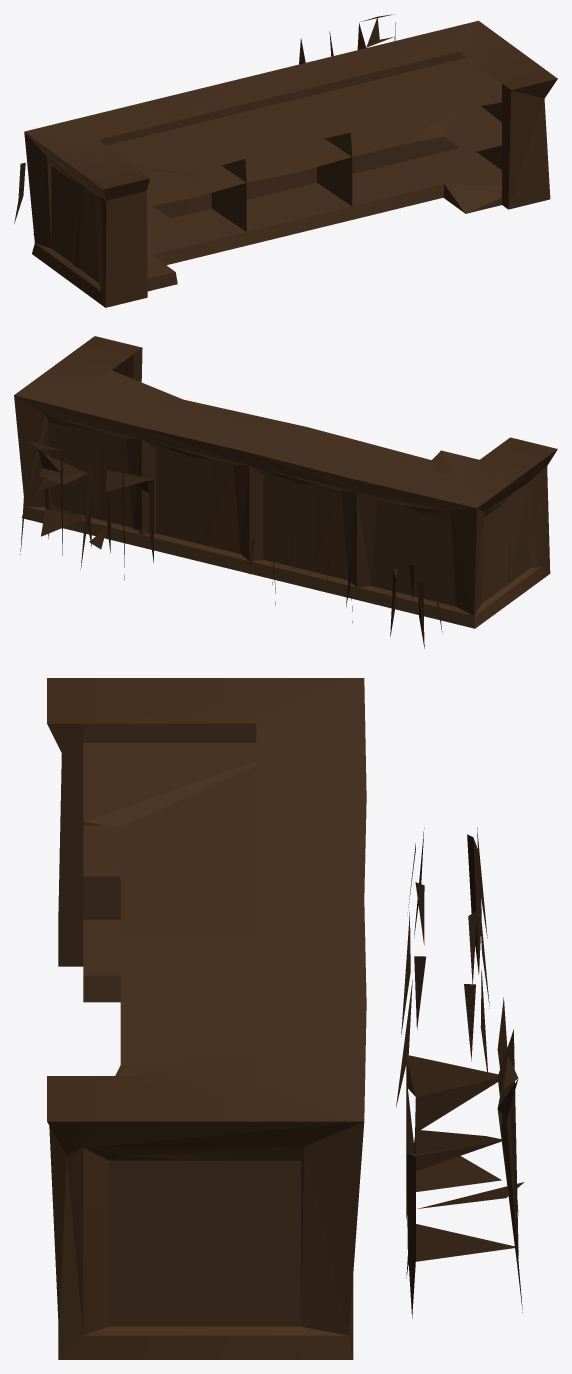
Rendered from pub-counter.lod1.glb.
The picture shows the model from 3 angles, top to bottom: view 1: azimuth 30°, elevation 25°; view 2: azimuth 150°, elevation 25°; view 3: azimuth 270°, elevation 25°; orthographic projection. The views are drawn at different scales.
Parts seen in each view (by area): view 1: Object_4; view 2: Object_4; view 3: Object_4.
Boxes of the visible parts, x1,y1,x2,y2 form: Object_4: (14,14,557,307); Object_4: (14,336,557,648); Object_4: (47,678,524,1359).
Size of the model in its own units: 4.28 by 1.09 by 1.95.
